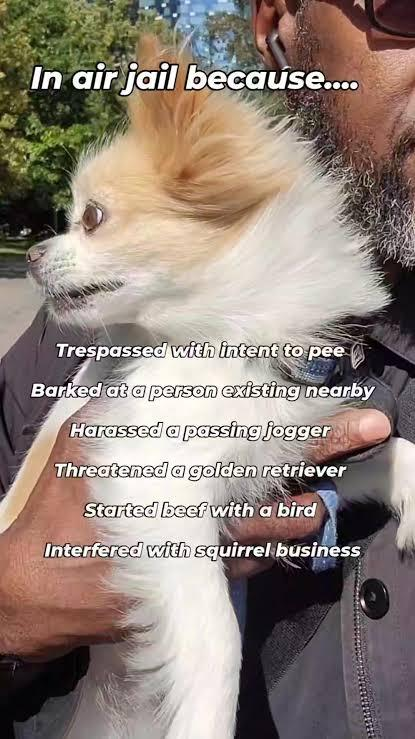adult_dog: (0, 29, 415, 739)
non-dog: (0, 0, 415, 739)
